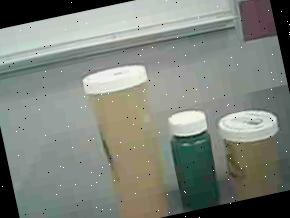Bottle A: (71, 56, 179, 218)
Bottle B: (215, 100, 290, 201)
Bottle C: (163, 103, 227, 212)
